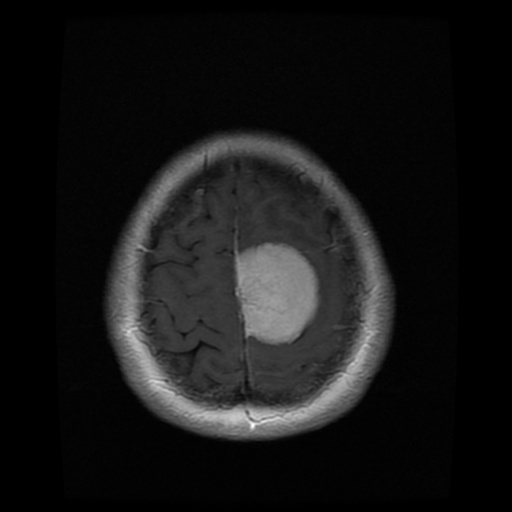meningioma: (235, 242, 318, 342)
